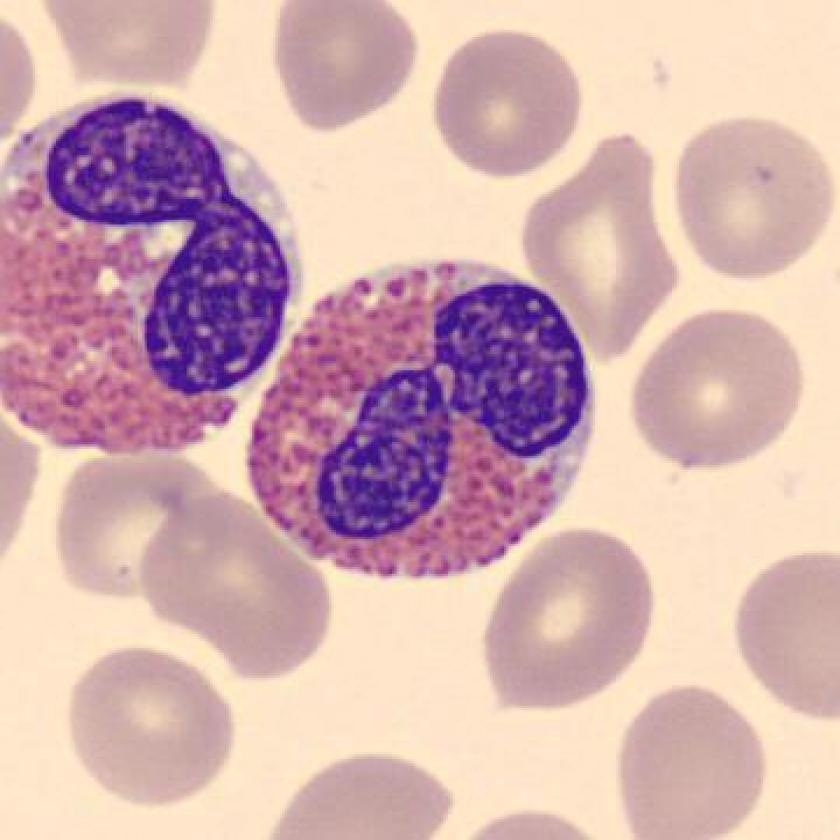eosinophil: (234, 244, 610, 591)
